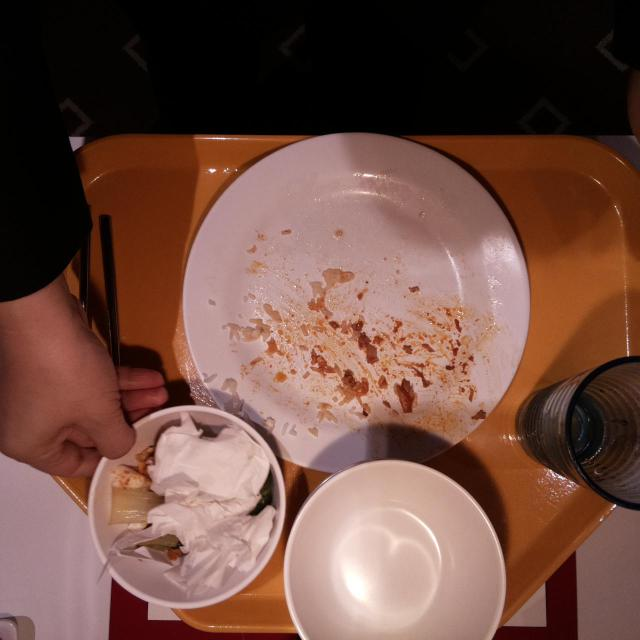Vegetable: (107, 466, 275, 529)
